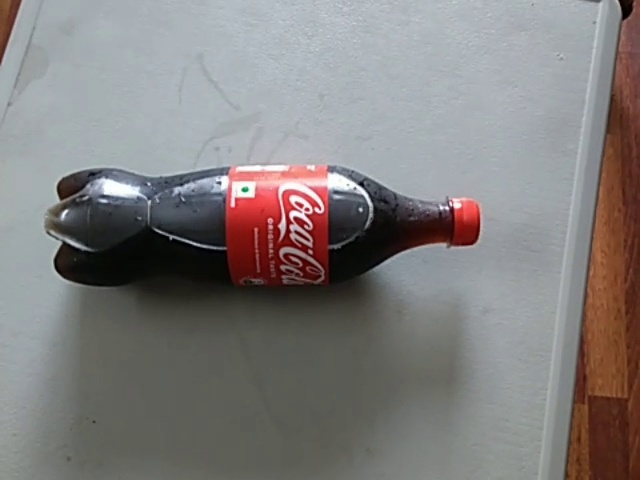Cocacola: (27, 152, 496, 299)
